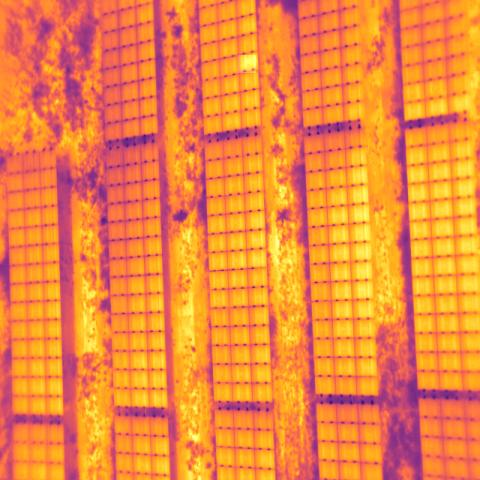fault: (238, 55, 256, 73)
